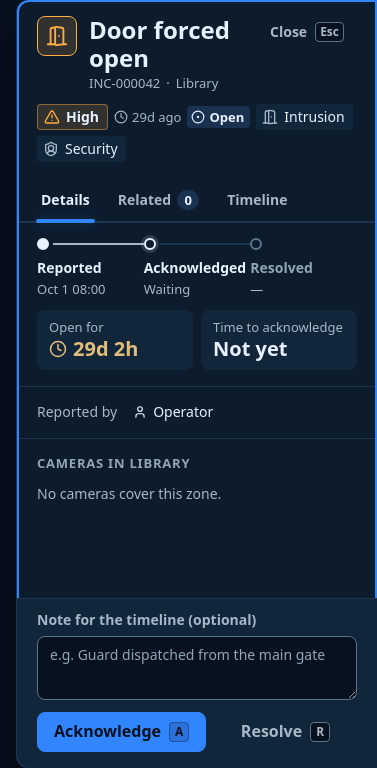
Test: IncidentDetail › tabs › Related › says nothing else is related when the lists arrived and held nothing
Click the tab "Related 0" at (158, 200), box [106,178,211,222]
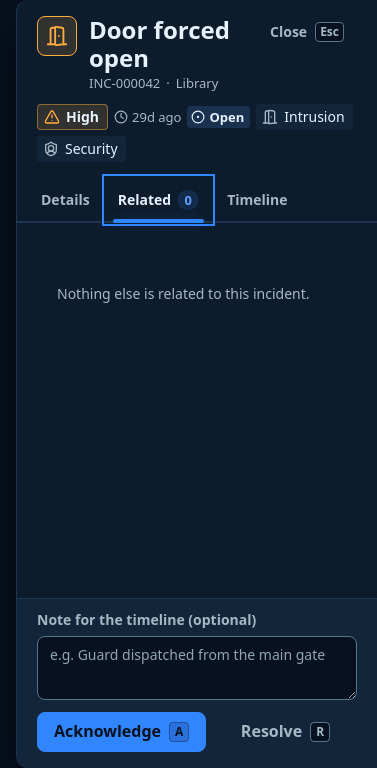
expect the text "Nothing else is related to this incident." is shown: met, box [57,284,310,303]
